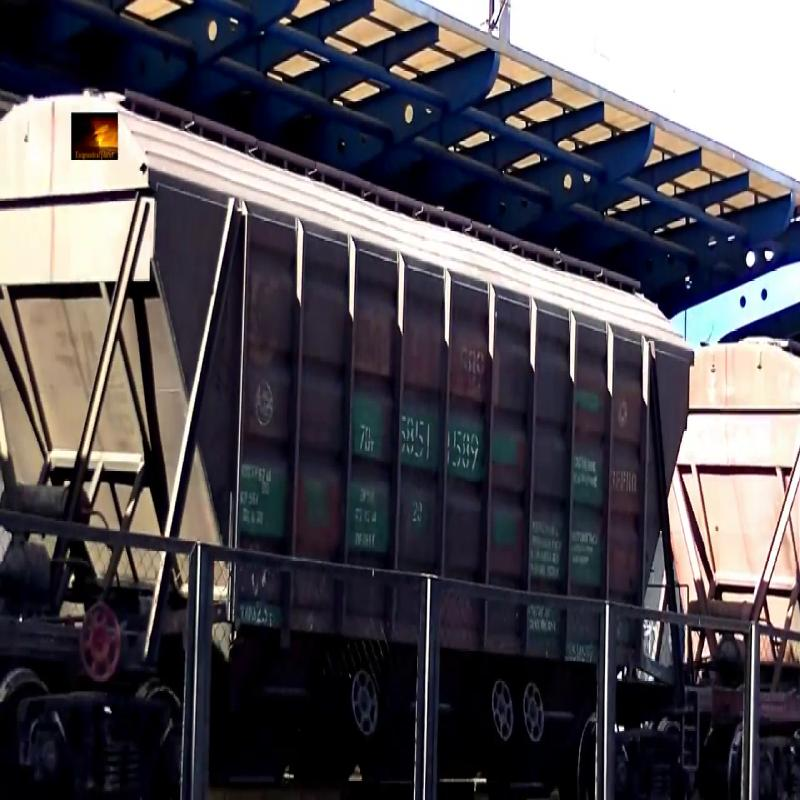train: (2, 42, 740, 781)
